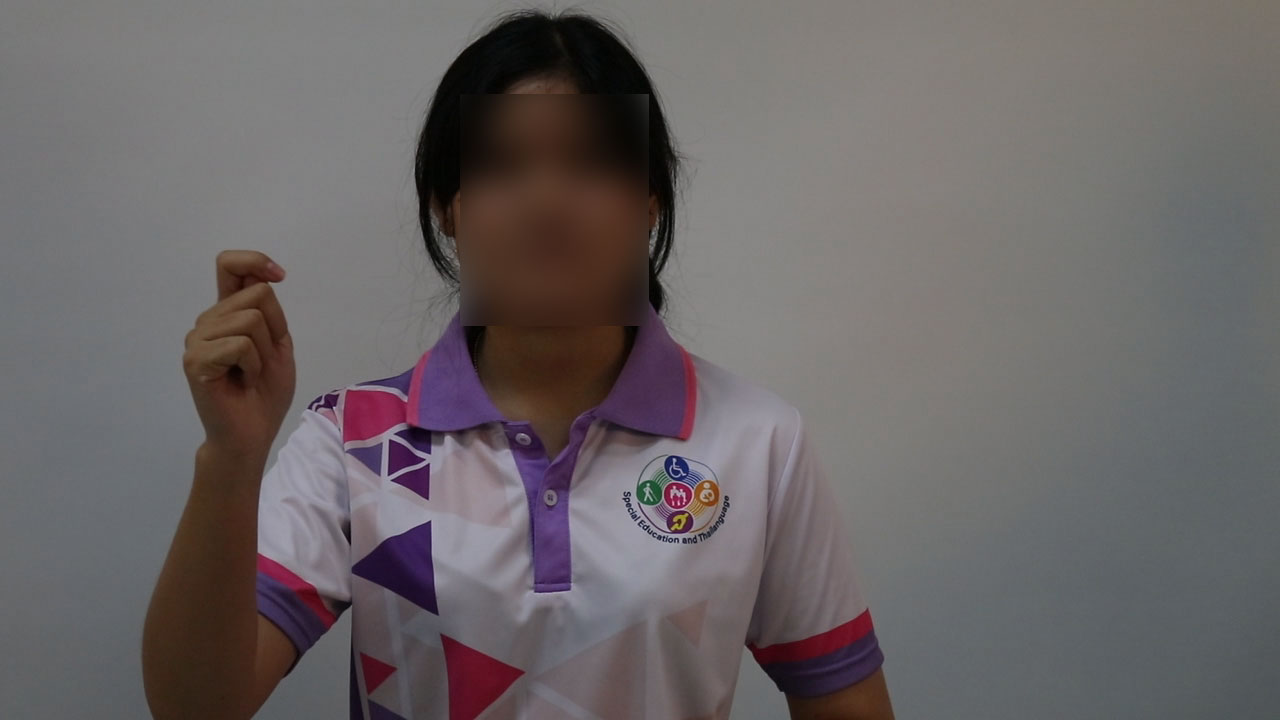or: (165, 240, 309, 468)
